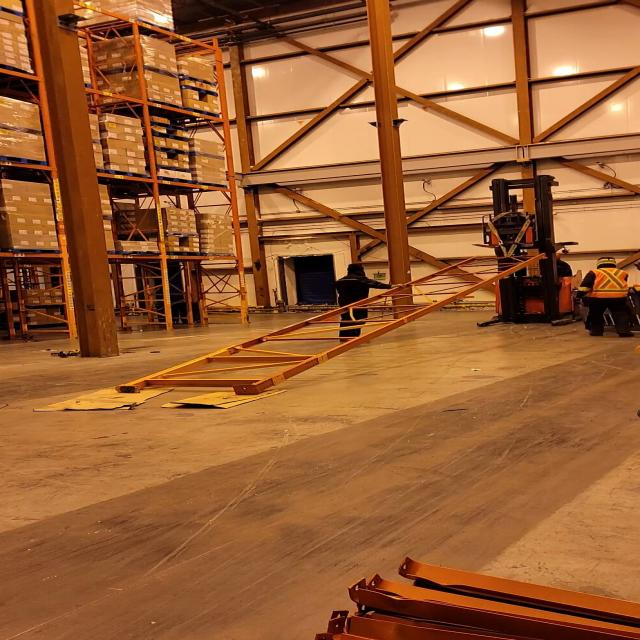forklift: (474, 179, 589, 328)
human: (326, 262, 390, 345), (581, 255, 630, 339), (626, 256, 640, 336), (536, 252, 578, 278)
objectofinterest: (112, 247, 559, 395), (32, 378, 185, 414), (156, 381, 296, 410), (567, 286, 640, 334)
